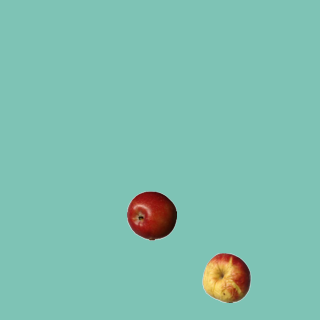Apple Braeburn: (126, 190, 176, 240)
Apple Red Yellow 1: (201, 252, 251, 302)
